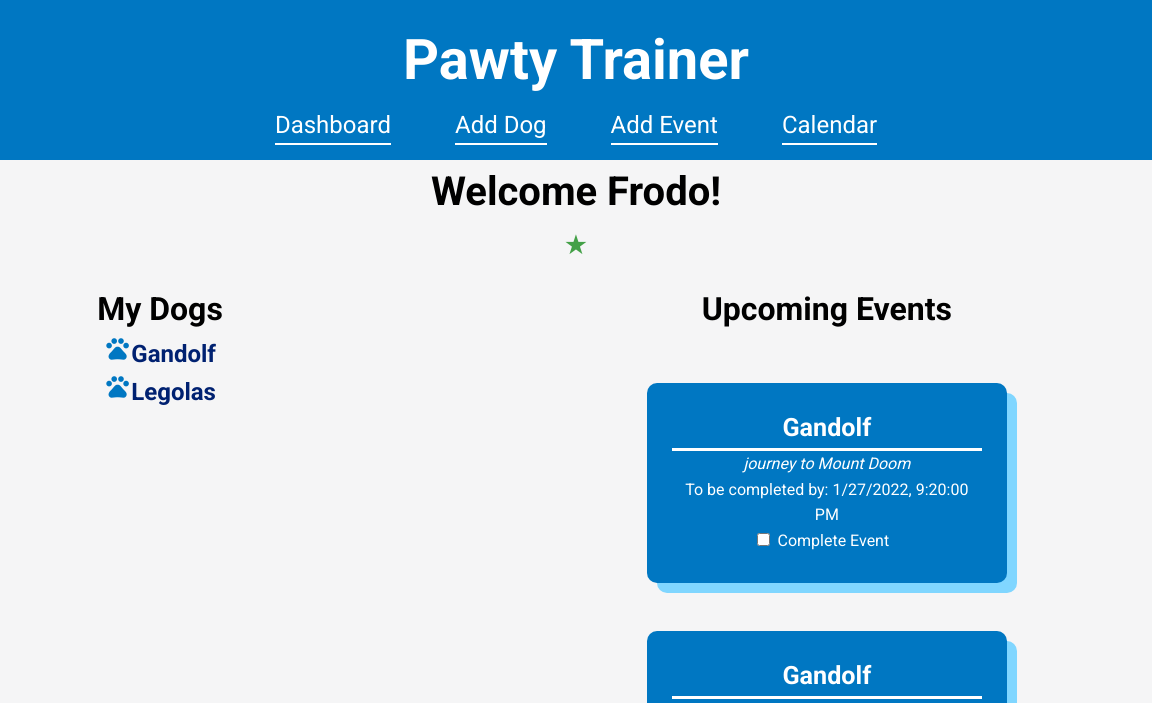
Add Event View › Should show an error message if an input is missing
Click the link with class "add-event-nav": [665, 129] box [611,111,718,146]
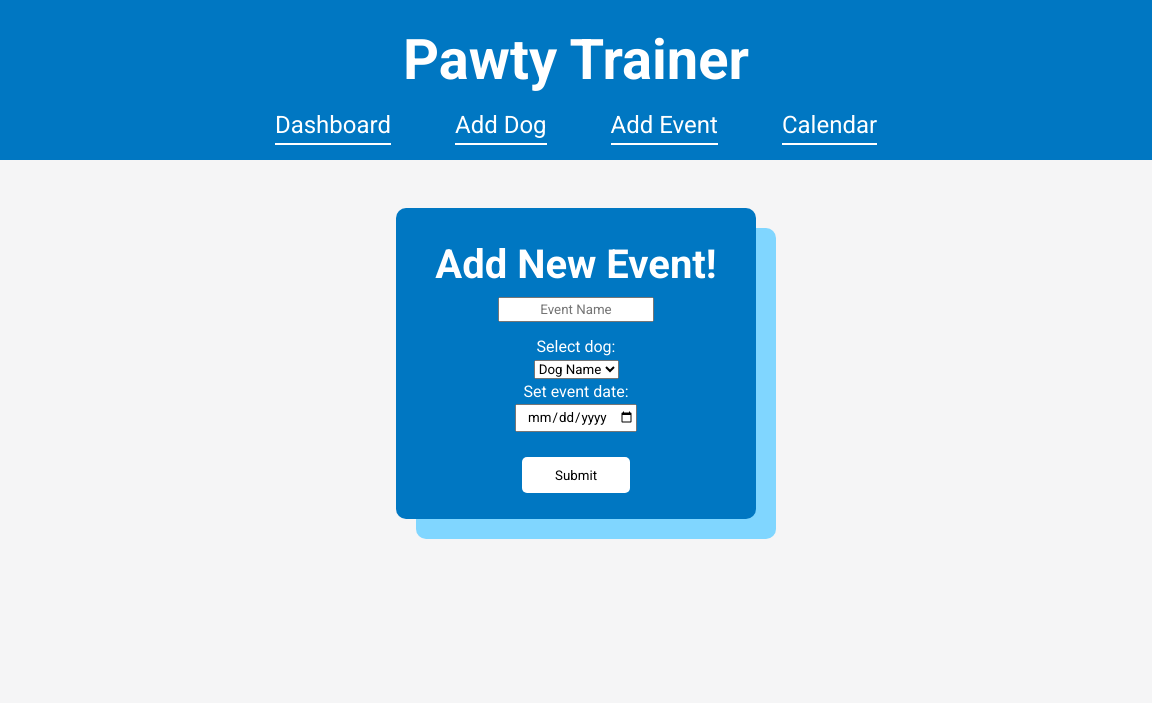
In the field with class "event-name-input": [576, 310] box [498,297,654,322], type "Shake"
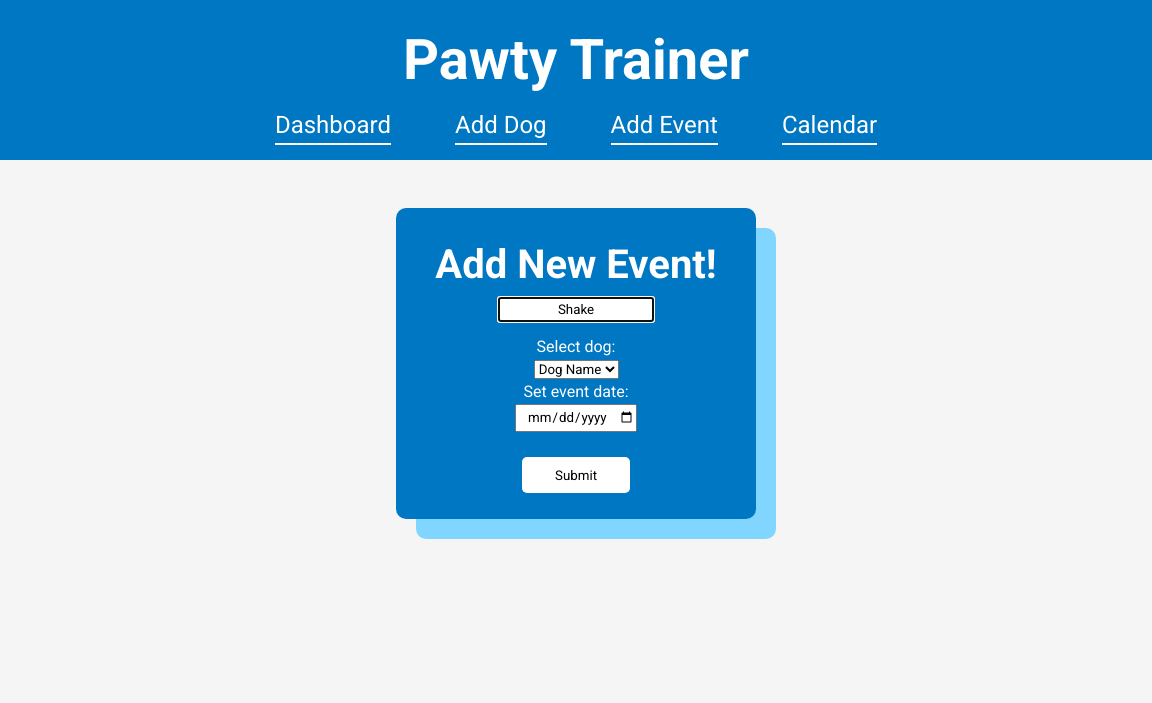
expect the dropdown with class "select-dog-input" shows "Dog Name": met
Select "Gandolf" in the dropdown with class "select-dog-input": [577, 370] box [534,360,619,379]
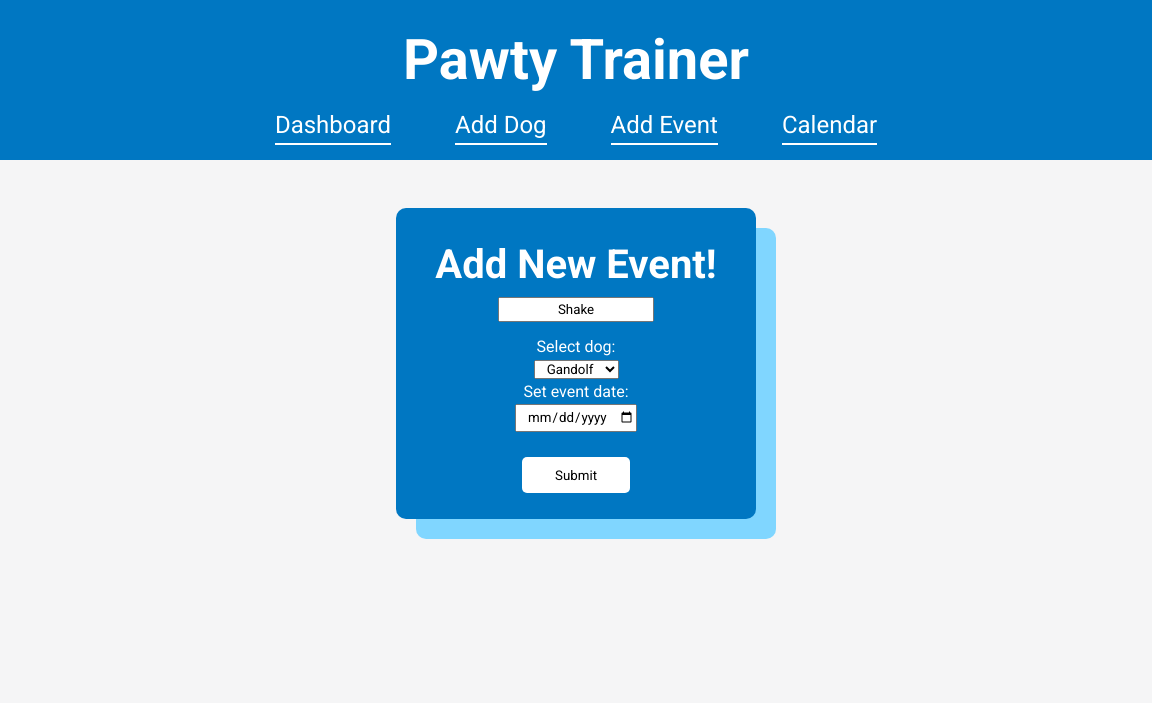
Click the button with class "event-submit-btn": [576, 475] box [522,457,630,493]
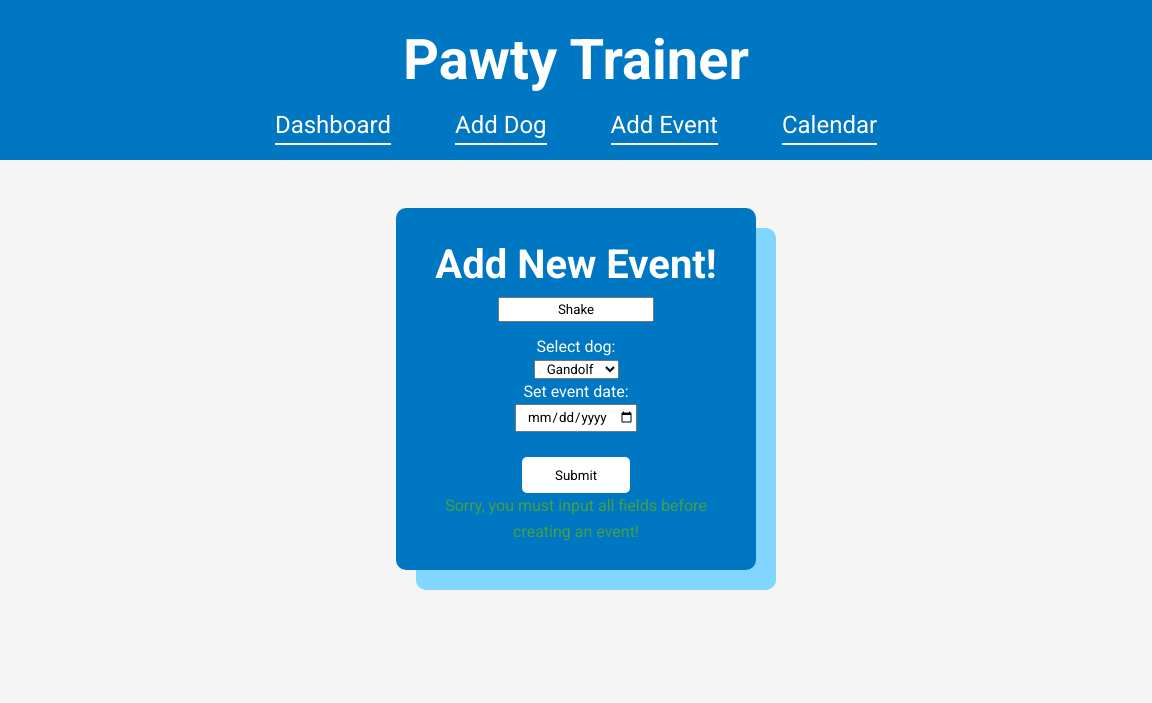
expect the text with class "event-error-msg" reads "Sorry, you must input all fields before creating an event!": met, box [445,496,707,541]
